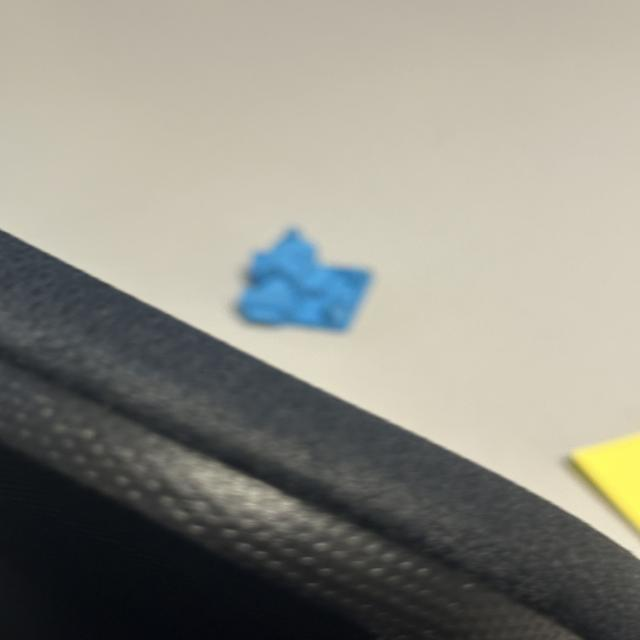house: (232, 225, 376, 334)
